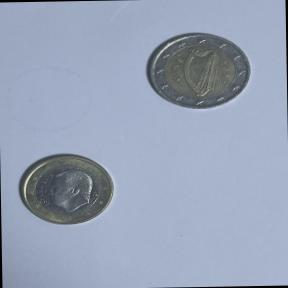1 Euro-B: (9, 146, 122, 231)
2 Euro-B: (138, 25, 255, 119)
